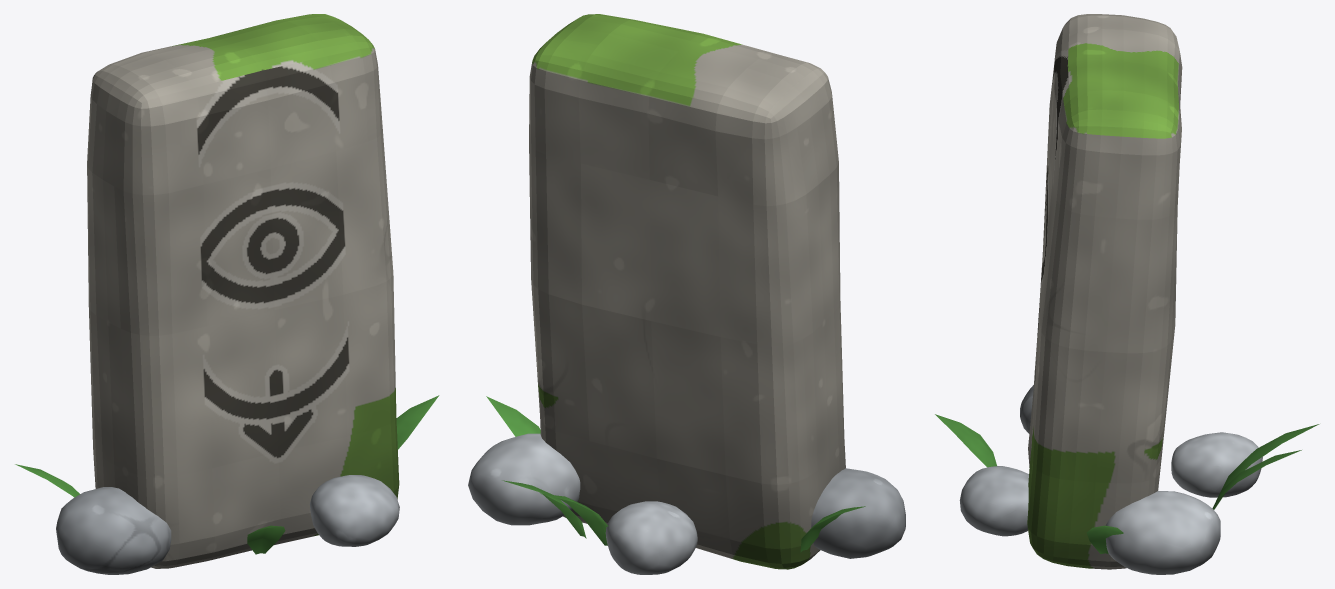
Rendered from rune_stone_b.glb.
3 renders of one model, left to right at view 1: azimuth 30°, elevation 25°; view 2: azimuth 150°, elevation 25°; view 3: azimuth 270°, elevation 25°, orthographic. The views are drawn at different scales.
Visible parts, largest first — view 1: RuneStoneB; view 2: RuneStoneB; view 3: RuneStoneB.
Part boxes in pixels (left/top/right/bottom): RuneStoneB: left=15, top=14, right=439, bottom=574; RuneStoneB: left=468, top=14, right=905, bottom=574; RuneStoneB: left=935, top=14, right=1319, bottom=574.
Bounding box in the file's own units: 1.17 × 1.36 × 1.03.
Materials: 1 (1 with a texture image).
